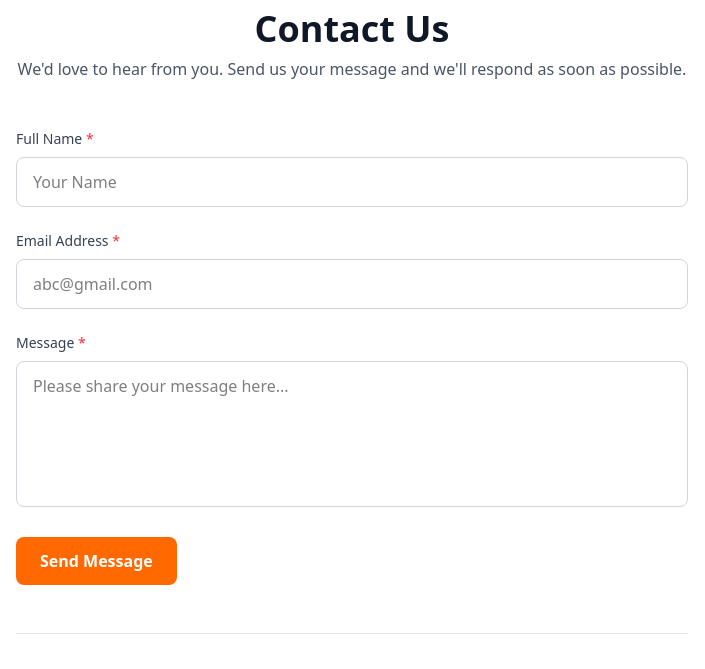
Test: Contact Us Page › shows error for invalid email
In the field labelled "Email Address *": (352, 284) left=16, top=259, right=688, bottom=309, type "invalid-email"
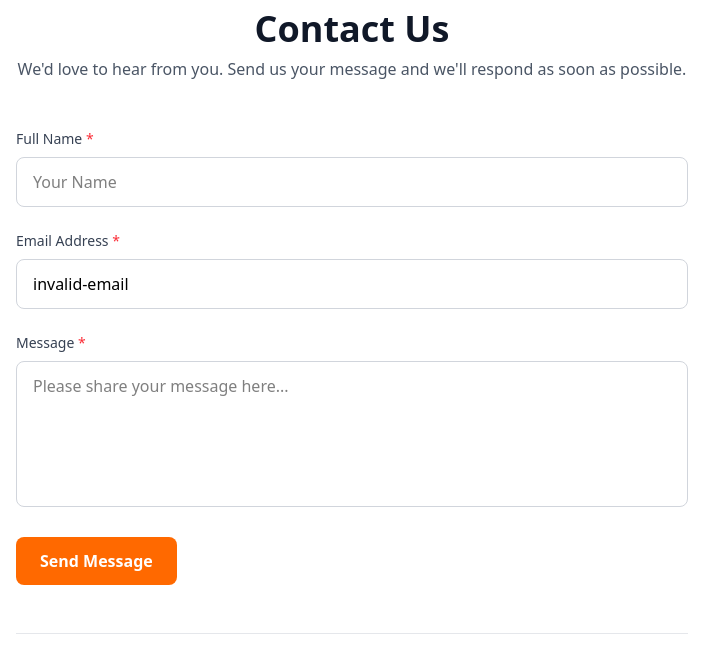
Click the button "Send Message": click(96, 561) left=16, top=537, right=177, bottom=585
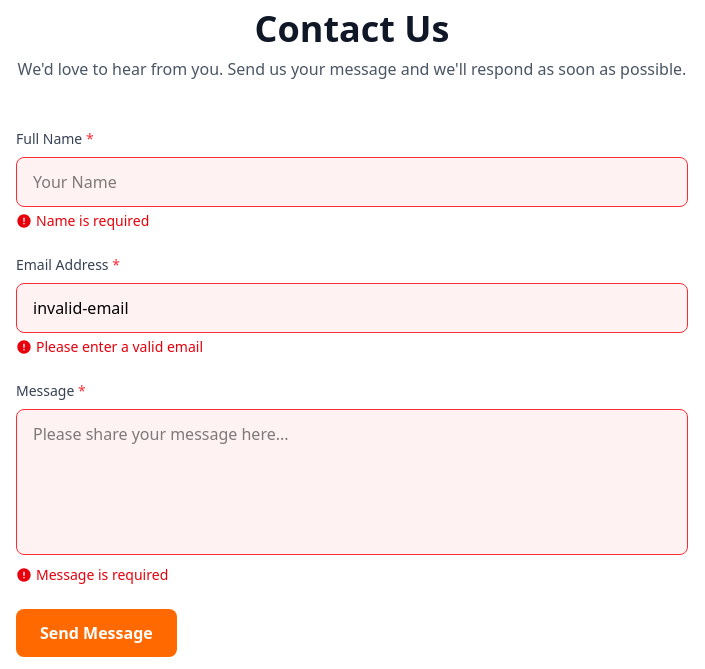
Now the text "Please enter a valid email" is shown, box left=16, top=337, right=203, bottom=356
